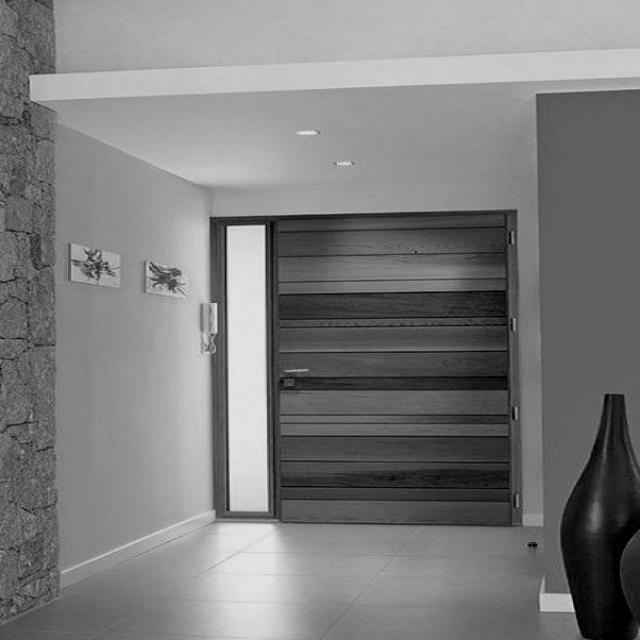door: (271, 217, 518, 532)
